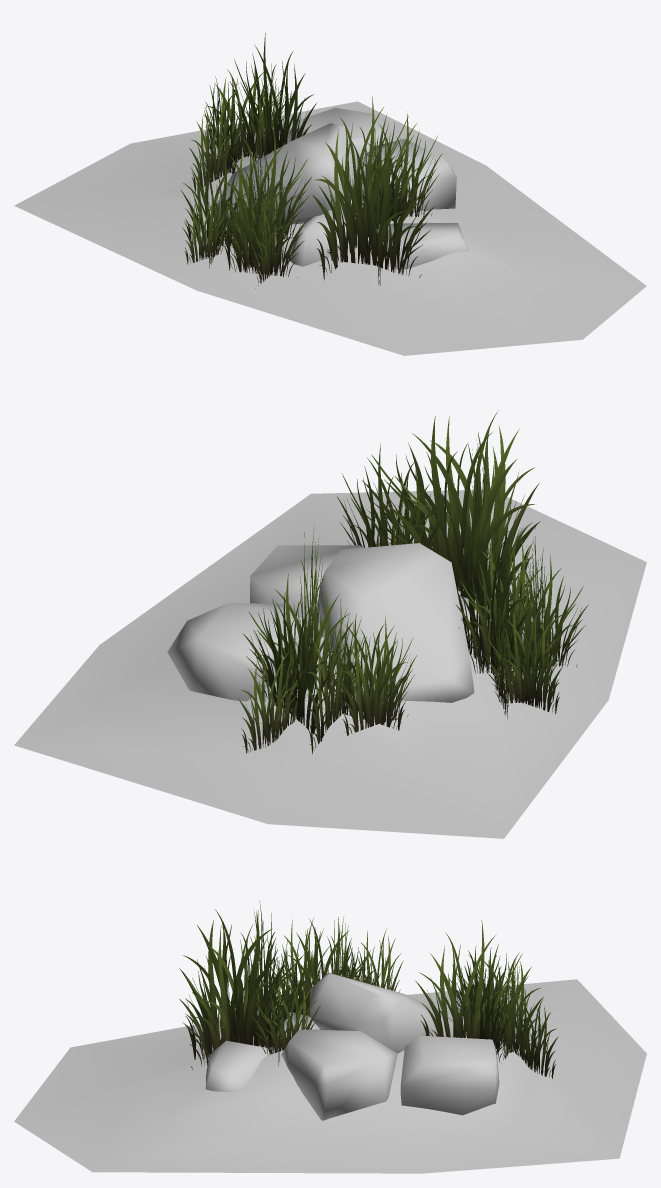
File: Soil_Bricks_Grass_01.fbx
3 views of the same model, one above another, from view 1: azimuth 30°, elevation 25°; view 2: azimuth 150°, elevation 25°; view 3: azimuth 270°, elevation 25° (orthographic). The views are drawn at different scales.
Parts seen in each view (by area): view 1: Soil_Bricks_Grass_01_LOD0; view 2: Soil_Bricks_Grass_01_LOD0; view 3: Soil_Bricks_Grass_01_LOD0.
Part boxes in pixels (x1,y1,x2,y2): Soil_Bricks_Grass_01_LOD0: (14, 32, 646, 355); Soil_Bricks_Grass_01_LOD0: (14, 412, 646, 838); Soil_Bricks_Grass_01_LOD0: (14, 900, 646, 1173).
Size of what is drawn, in the model's own units: 3.93 by 5.4 by 1.72.
